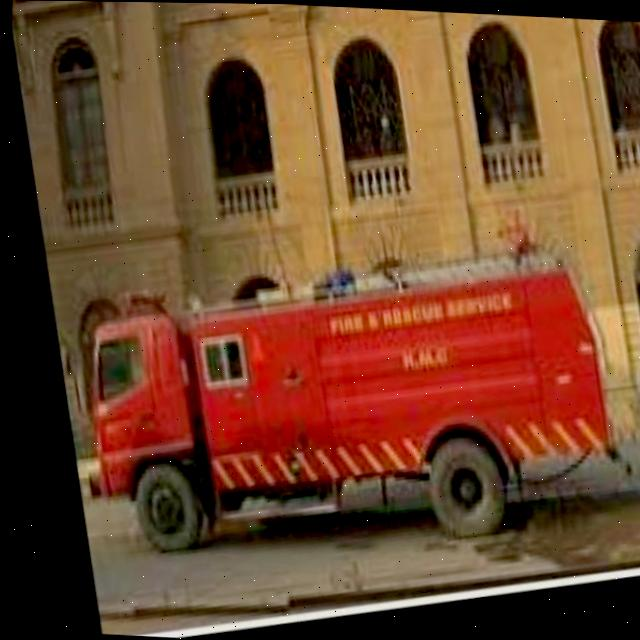emergency: (67, 208, 633, 572)
